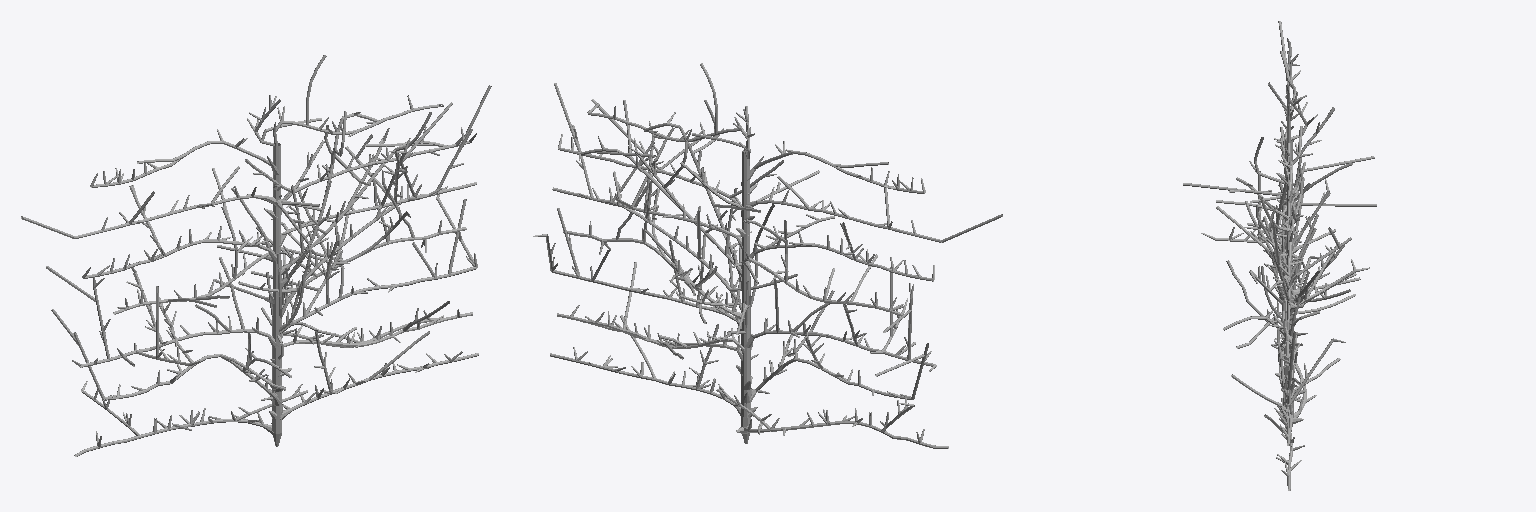
robot.urdf — ur5e:
<robot name="ur5e" xmlns:xacro="http://ros.org/wiki/xacro">
    <link name="tree">
        <visual>
        <geometry>
            <mesh filename="./ur_e_description/meshes/trees/tree_22.obj" scale="1 1 1"/>
        </geometry>
        <material name="LightGrey">
            <color rgba="0.7 0.7 0.7 1.0"/>
        </material>
        </visual>
        <collision concave = "true">
        <geometry>
            <mesh filename="./ur_e_description/meshes/trees/tree_22.obj" scale="1 1 1"/>
        </geometry>
        </collision>
        <inertial>
        <mass value="4.0"/>
        <origin rpy="0 0 0" xyz="0.0 0.0 0.0"/>
        <inertia ixx="0.00443333156" ixy="0.0" ixz="0.0" iyy="0.00443333156" iyz="0.0" izz="0.0072"/>
        </inertial>
    </link>
        <link name="world"/>
    <joint name="tree_joint" type="fixed">
        <parent link="world"/>
        <child link="tree"/>
        <origin rpy="0.0 0.0 0.0" xyz="0.0 0.0 0.0"/>
    </joint>
    </robot>

--- Render facts (derived) ---
The picture shows the robot from 3 angles, left to right: view 1: azimuth 30°, elevation 25°; view 2: azimuth 150°, elevation 25°; view 3: azimuth 270°, elevation 25°; orthographic projection.
Model ur5e with 2 links and 1 joints (1 fixed), rooted at world, posed every joint at zero.
Visible links, largest first — view 1: tree; view 2: tree; view 3: tree.
Link boxes in pixels (left/top/right/bottom): tree: left=21, top=55, right=491, bottom=456; tree: left=533, top=63, right=1002, bottom=448; tree: left=1183, top=21, right=1376, bottom=490.
Size in the robot's own frame: 34.04 by 12.56 by 26.51 metres.
Meshes: 1 distinct files referenced, 1 mesh visuals loaded (1 OBJ).